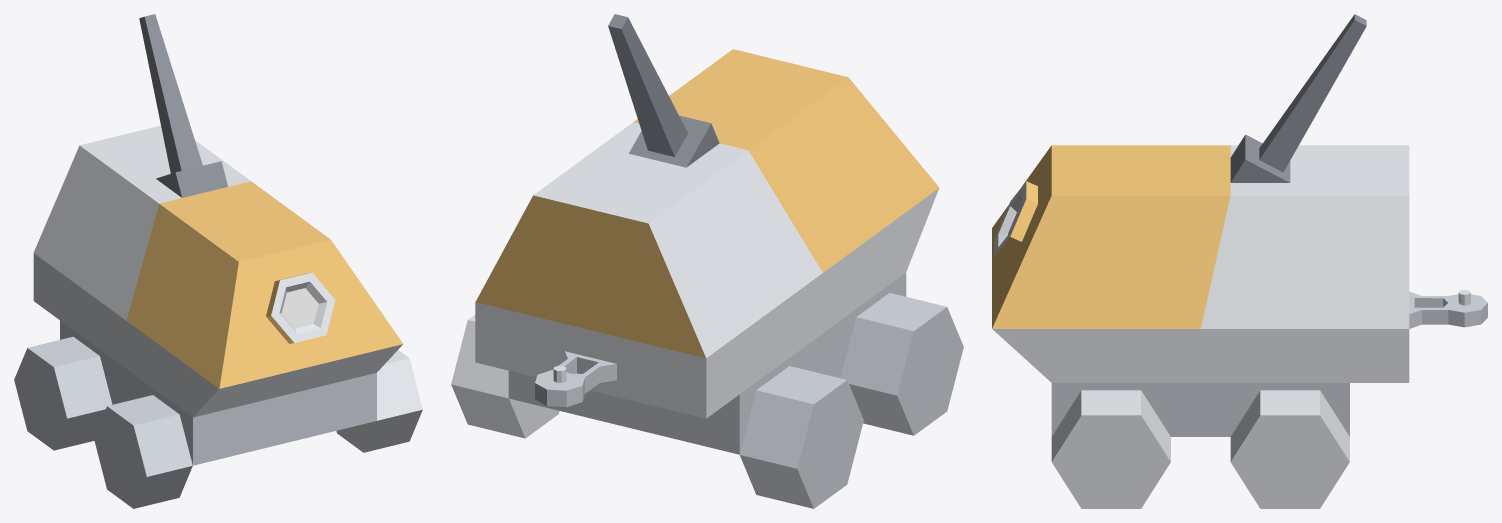
The model's file is Rover.fbx.
The picture shows the model from 3 angles, left to right: view 1: azimuth 30°, elevation 25°; view 2: azimuth 150°, elevation 25°; view 3: azimuth 270°, elevation 25°; orthographic projection. The views are drawn at different scales.
Visible parts, largest first — view 1: rover.001, rover, Wheel_FrontRight, Wheel_BackRight, Antenna, Wheel_FrontLeft; view 2: rover.001, rover, Wheel_BackRight, Wheel_FrontRight, Antenna, Wheel_BackLeft; view 3: rover.001, rover, Wheel_BackLeft, Wheel_FrontLeft, Antenna.
Boxes of the visible parts, x1,y1,x2,y2 form: rover.001: [33, 125, 402, 388]; rover: [33, 253, 402, 465]; Wheel_FrontRight: [94, 395, 192, 508]; Wheel_BackRight: [14, 336, 112, 450]; Antenna: [139, 14, 227, 197]; Wheel_FrontLeft: [336, 350, 422, 452]; rover.001: [475, 49, 939, 358]; rover: [475, 188, 939, 454]; Wheel_BackRight: [739, 366, 863, 508]; Wheel_FrontRight: [840, 293, 963, 435]; Antenna: [608, 14, 719, 167]; Wheel_BackLeft: [451, 314, 559, 438]; rover.001: [992, 145, 1409, 328]; rover: [992, 290, 1487, 436]; Wheel_BackLeft: [1230, 390, 1349, 508]; Wheel_FrontLeft: [1051, 390, 1170, 508]; Antenna: [1230, 14, 1366, 182].
Size of the model in its own units: 30 by 38.53 by 41.58.
